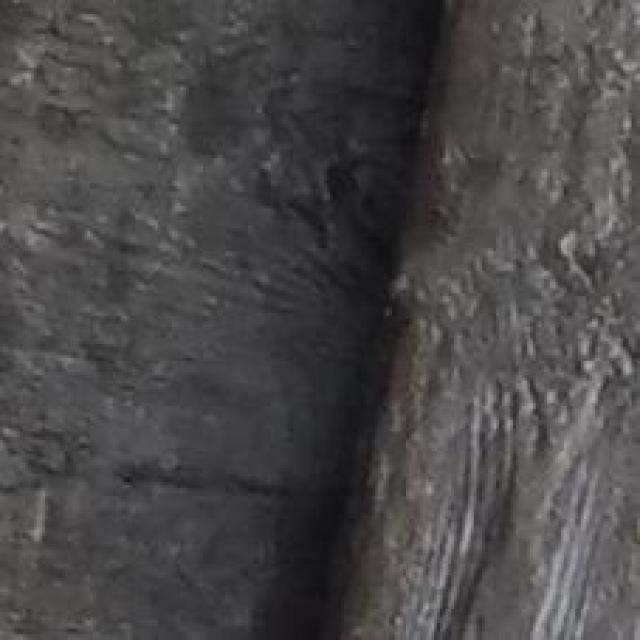Crack: (297, 0, 484, 640)
